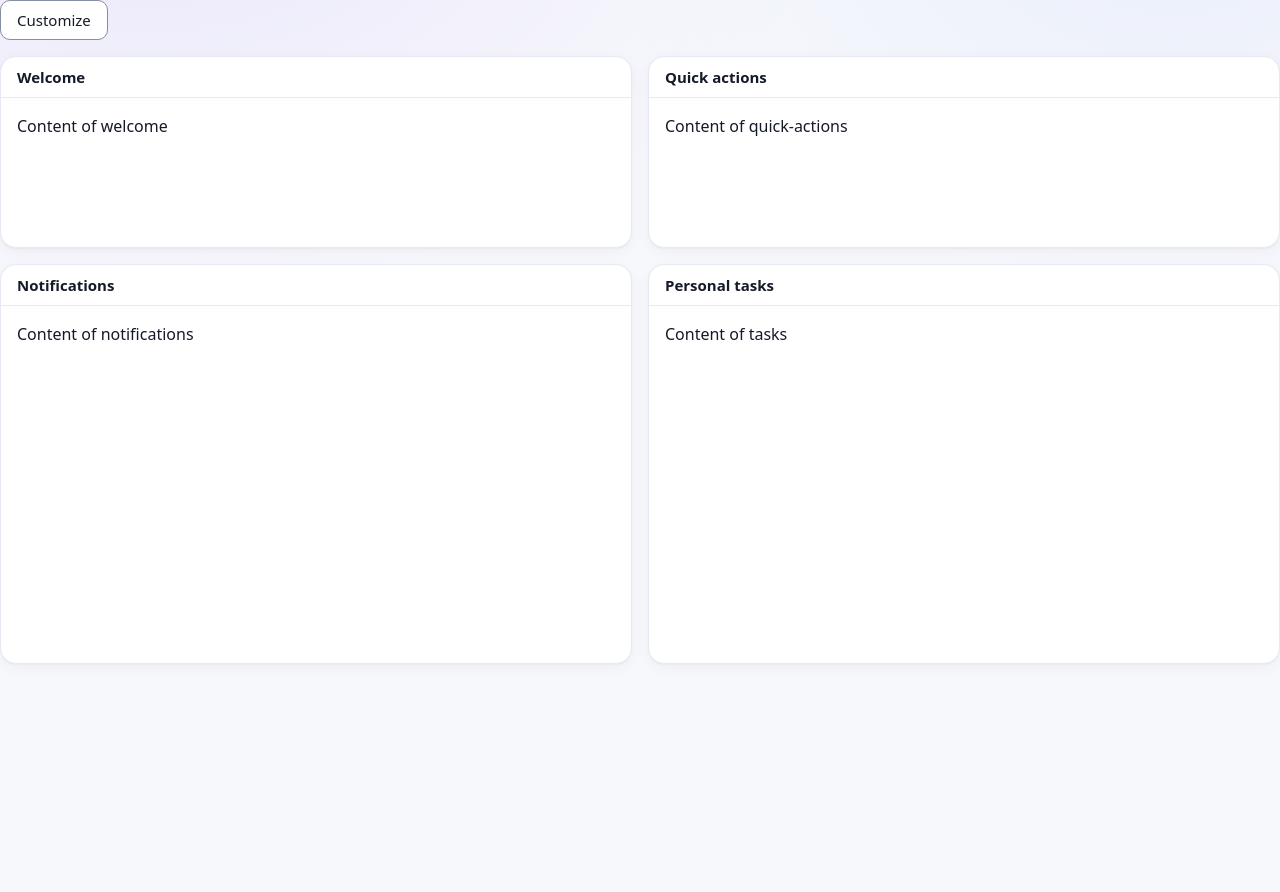
Scenario: DashboardBoard edit mode › removes a widget everywhere
The image size is (1280, 892).
Click the button "Customize": (54, 20) [0,0,108,40]
(page scrolled)
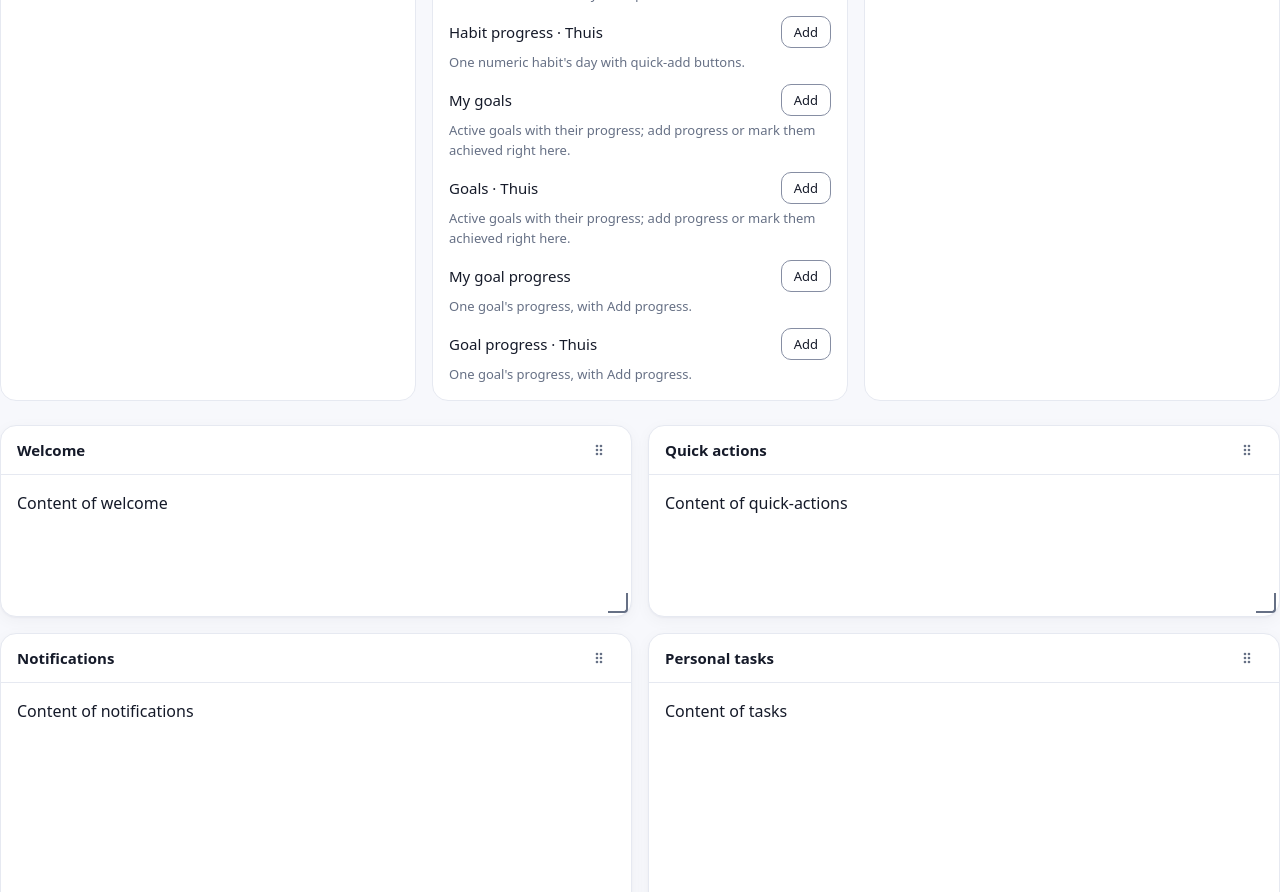
Click the button named "Arrange Welcome": (599, 450) [583,434,615,466]
(page scrolled)
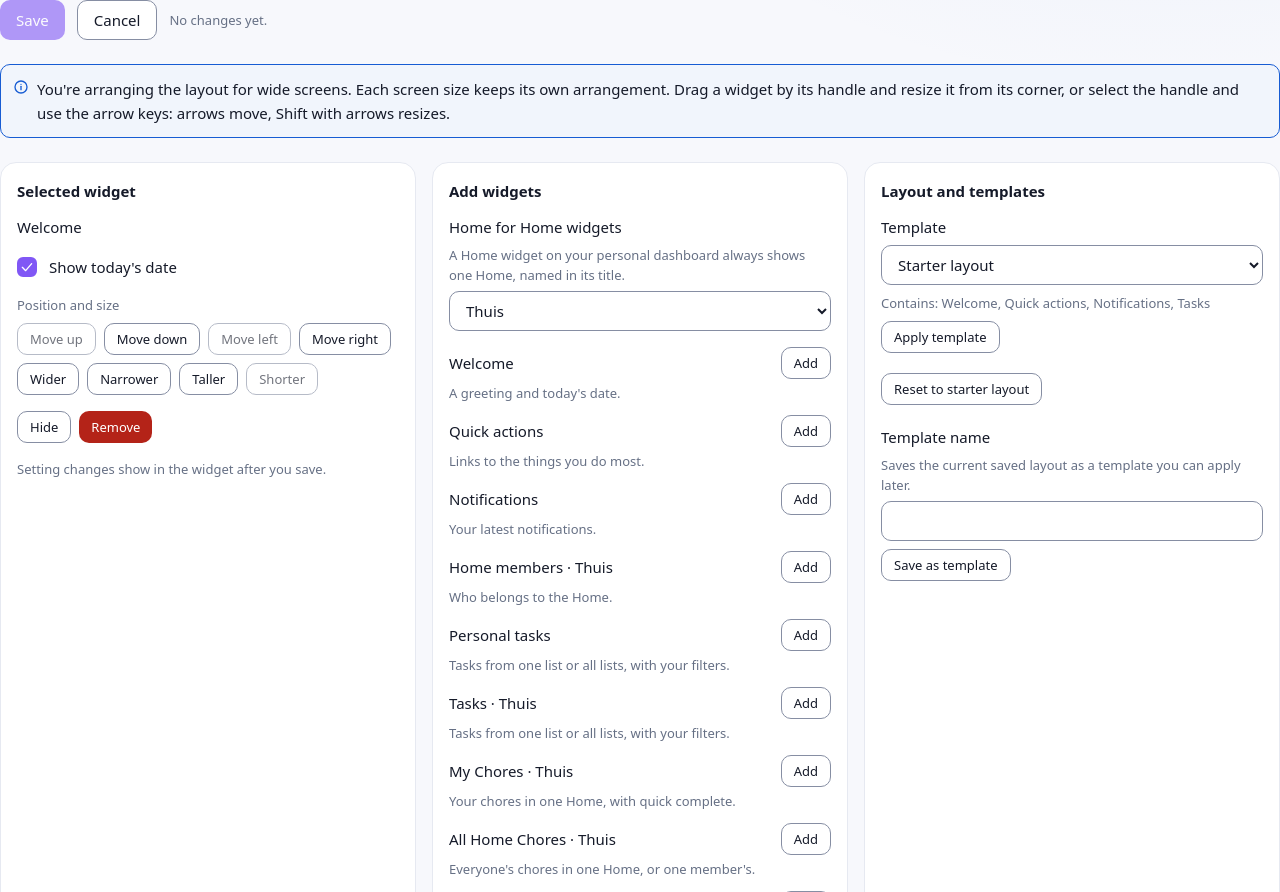
Click the button "Remove": (116, 427) [79,411,152,443]
(page scrolled)
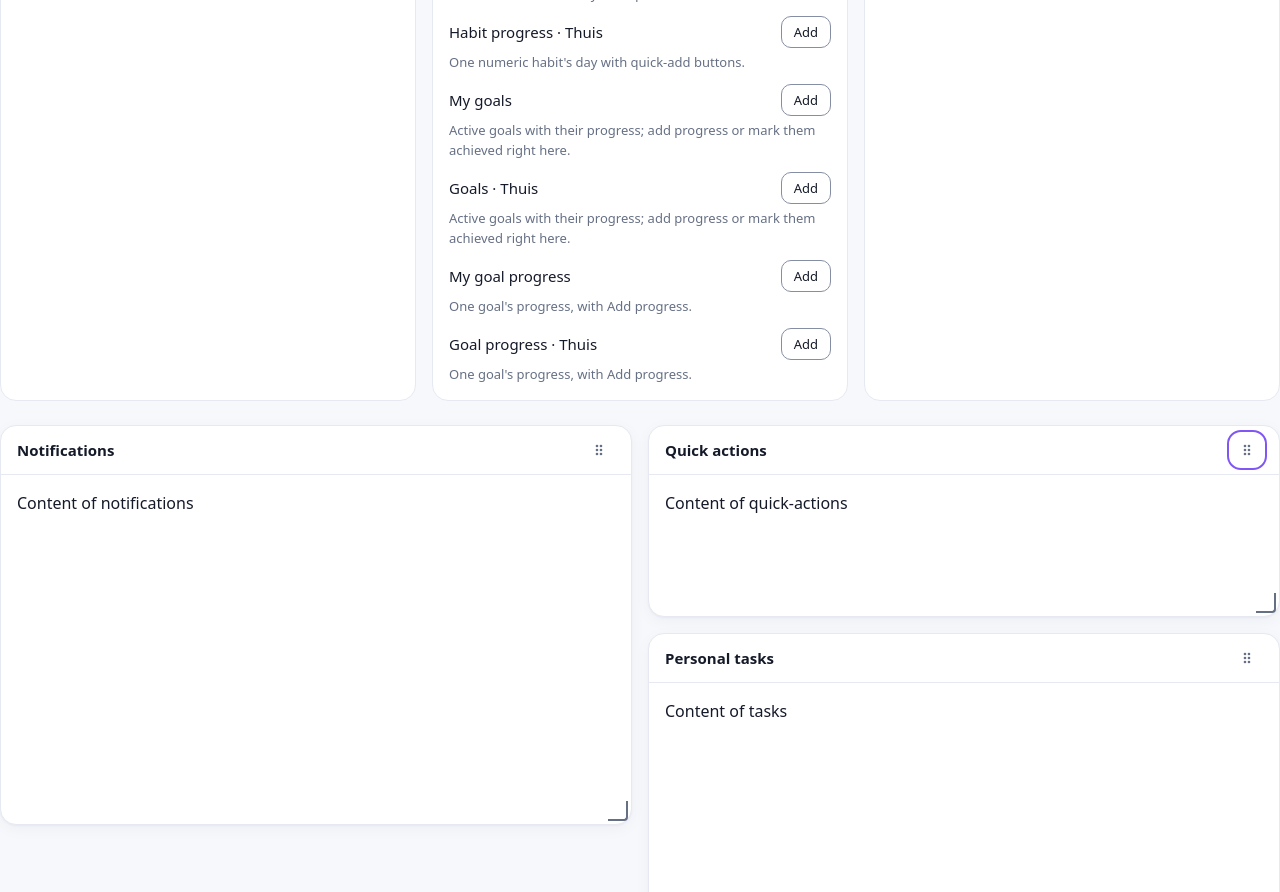
Now the number of buttons named "Arrange " is 3, box [1231,434,1263,466]; [583,434,615,466]; [1231,642,1263,674]
